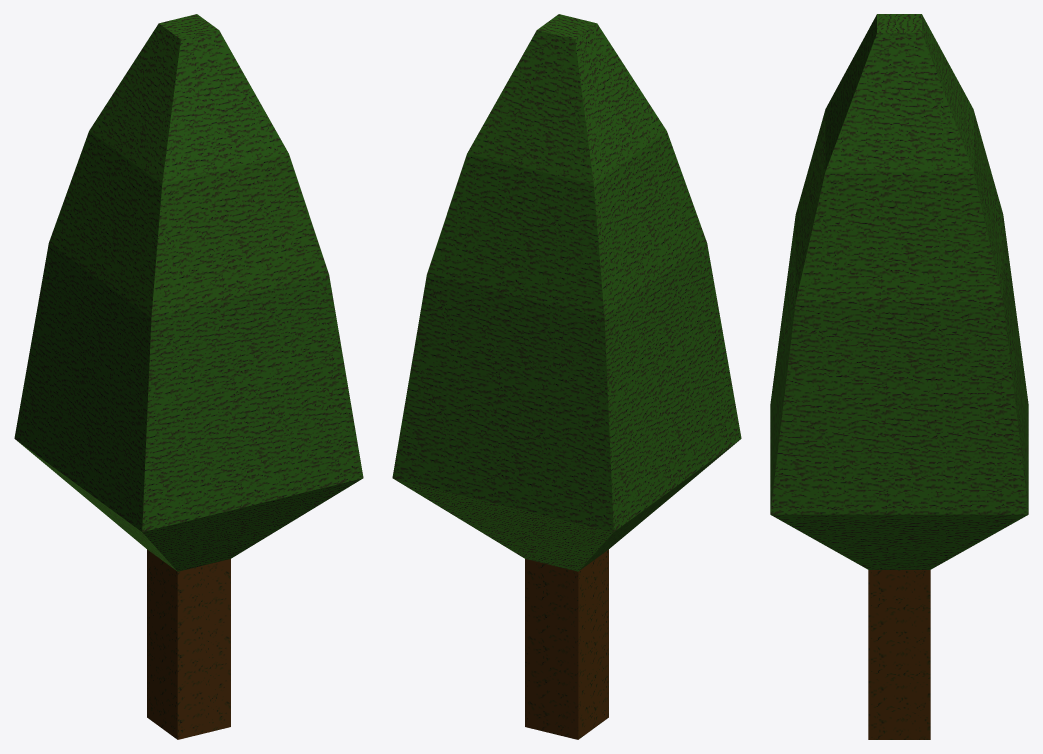
Rendered from Tree_004.fbx.
The picture shows the model from 3 angles, left to right: view 1: azimuth 30°, elevation 25°; view 2: azimuth 150°, elevation 25°; view 3: azimuth 270°, elevation 25°; orthographic projection.
Parts seen in each view (by area): view 1: Box001; view 2: Box001; view 3: Box001.
Boxes of the visible parts, x1,y1,x2,y2 form: Box001: (14,14,363,739); Box001: (392,14,741,739); Box001: (770,14,1028,739).
Size of the model in its own units: 83.27 by 250 by 83.27.
Materials: 1 (1 with a texture image).
